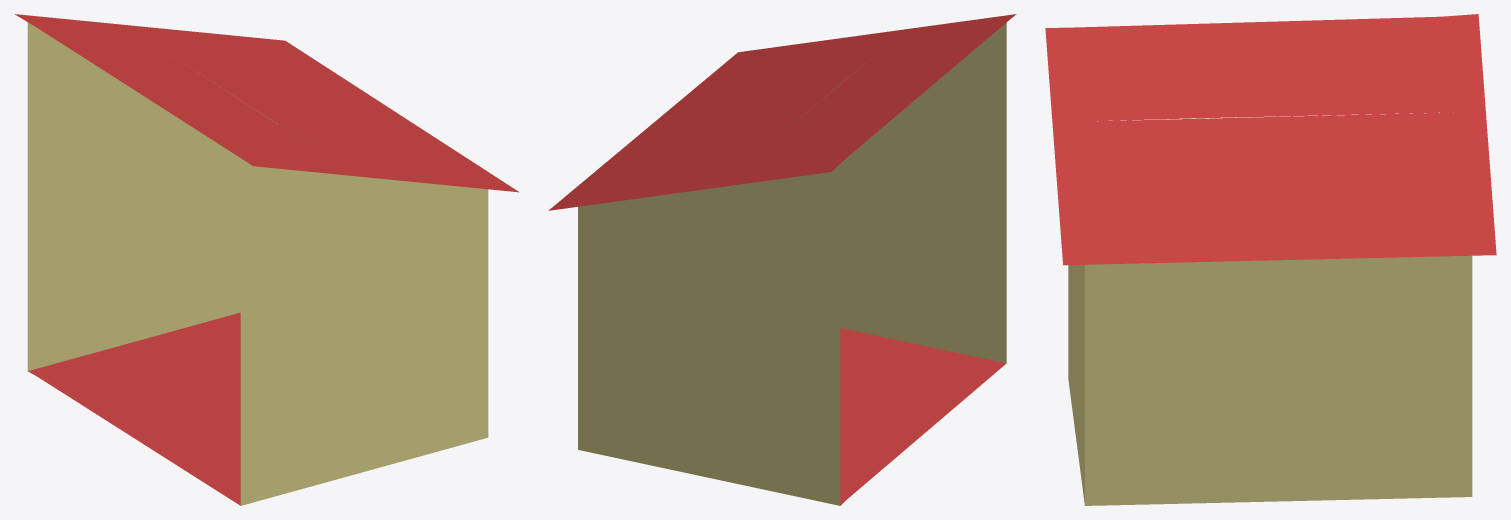
3 renders of one model, left to right at view 1: azimuth 30°, elevation 25°; view 2: azimuth 150°, elevation 25°; view 3: azimuth 270°, elevation 25°, orthographic. The views are drawn at different scales.
Bounding box in the file's own units: 7.61 × 9.77 × 8.45.
